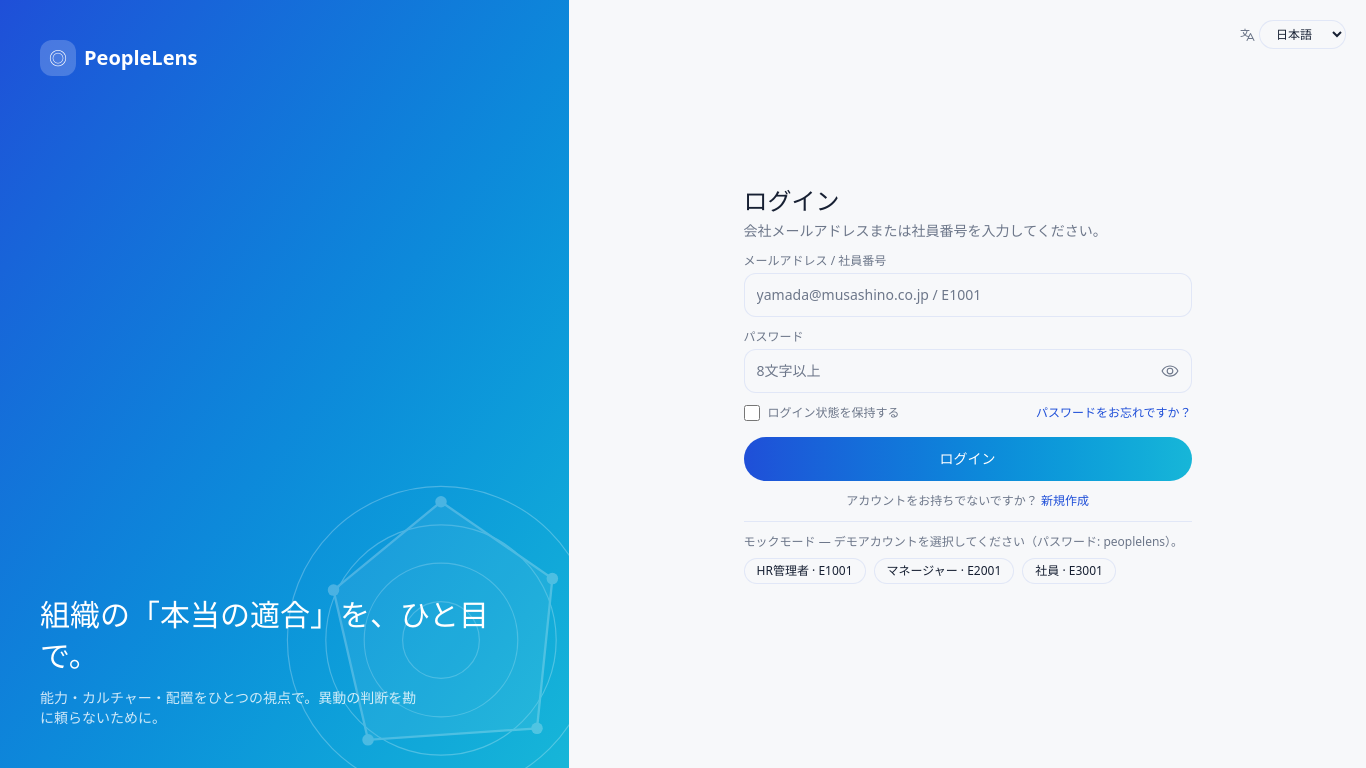
sign in › blocks an empty submit on the client
Step 1. Click the button "ログイン" → (968, 458), box [744,436,1192,480]
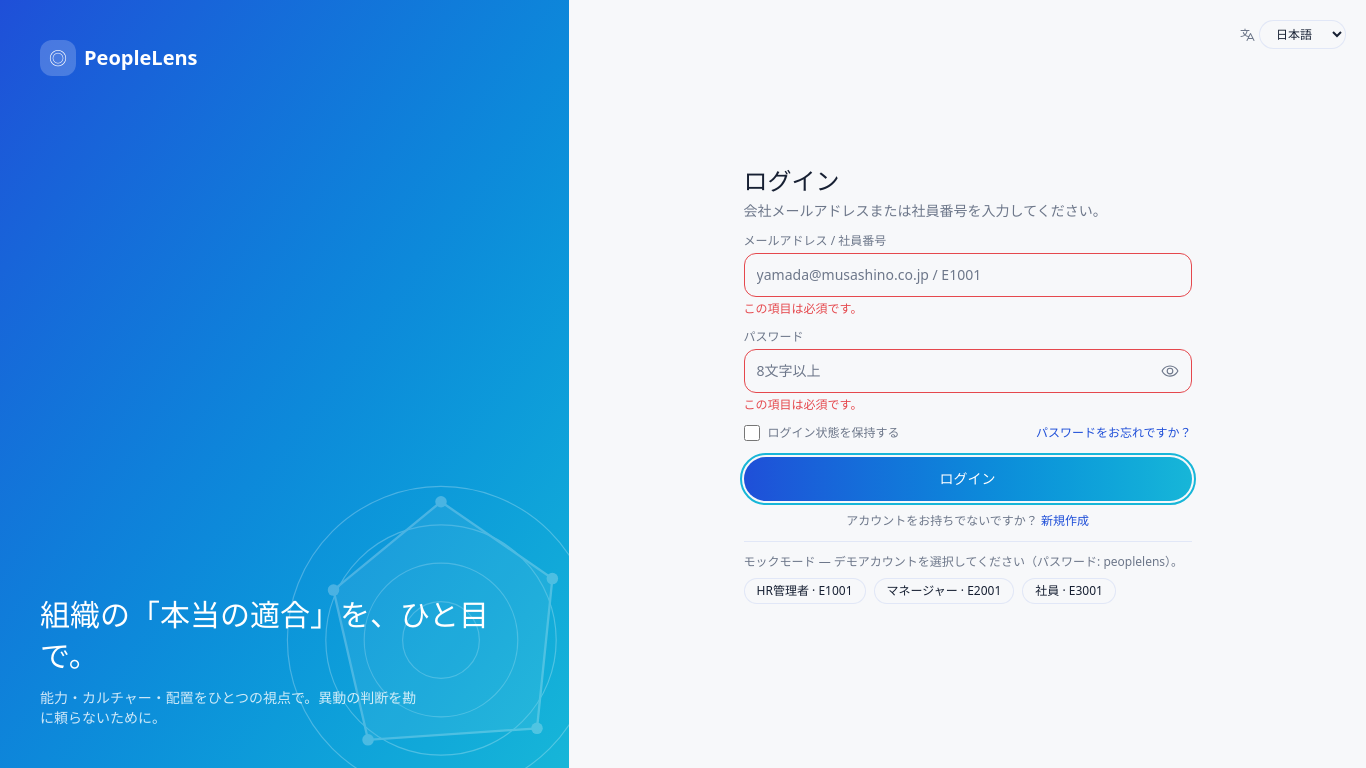
Result: the text "この項目は必須です。" is shown 2 times at [744,300,862,316]; [744,396,862,412]
